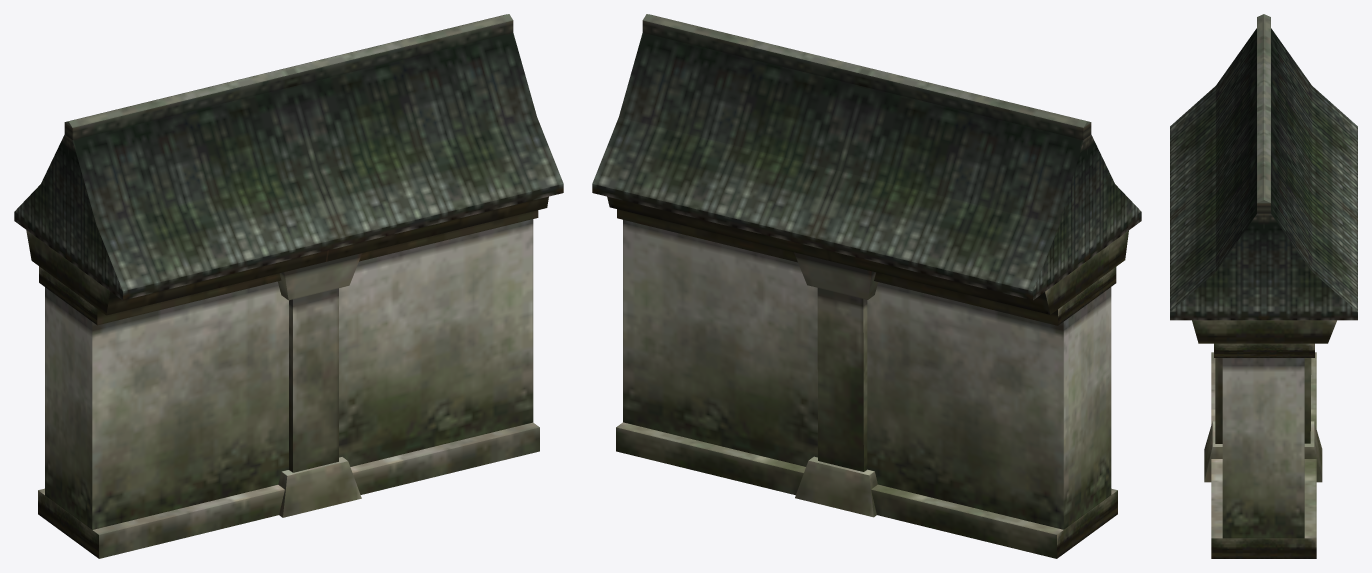
File: ob-10-02-wall-lin.glb
The picture shows the model from 3 angles, left to right: view 1: azimuth 30°, elevation 25°; view 2: azimuth 150°, elevation 25°; view 3: azimuth 270°, elevation 25°; orthographic projection. The views are drawn at different scales.
Visible parts, largest first — view 1: b1-038-wall-lin; view 2: b1-038-wall-lin; view 3: b1-038-wall-lin.
Boxes of the visible parts, x1,y1,x2,y2 form: b1-038-wall-lin: (14,14,563,558); b1-038-wall-lin: (592,14,1141,558); b1-038-wall-lin: (1170,14,1357,558).
Bounding box in the file's own units: 5 × 4.5 × 2.13.
1 material, 1 textured.
